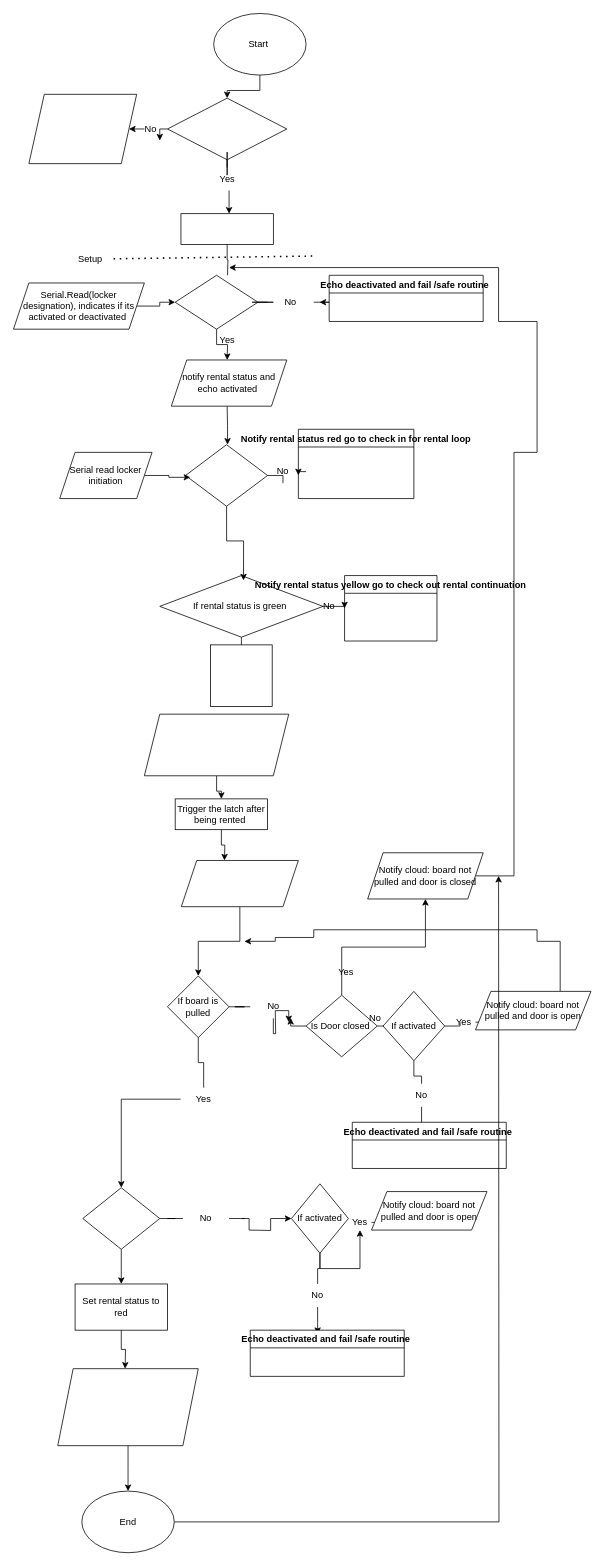
The diagram is 604 pixels wide and 1566 high, and some of its shapes have lost their labels. Here are the shapes that lost their labels. From the top down, the centre of each, then its label:
point 82,129: Notify not ready for activation
point 227,128: Is locker closed with board
point 226,228: Set Rental Status Green
point 216,302: if not deactivated
point 226,475: If locker initialization is 'checked out'
point 241,675: Set Rental status to yellow
point 216,744: Notify cloud: rental Status and Echo Activation
point 239,883: Notify cloud: checkout intitated
point 121,1218: If board is pulled, check if door is closed
point 127,1407: Notify cloud board is pulled and door is closed, checkout complete
